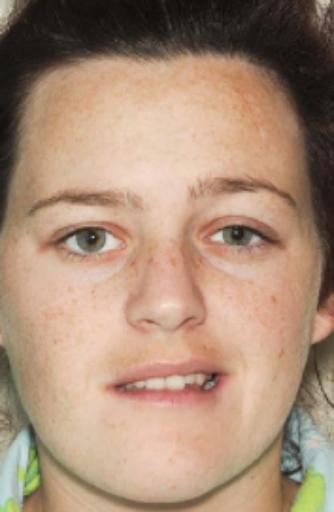left_eye: (201, 225, 279, 256)
left_lip_corner: (212, 362, 236, 391)
right_eye: (44, 225, 127, 262)
right_lip_corner: (99, 375, 128, 400)
